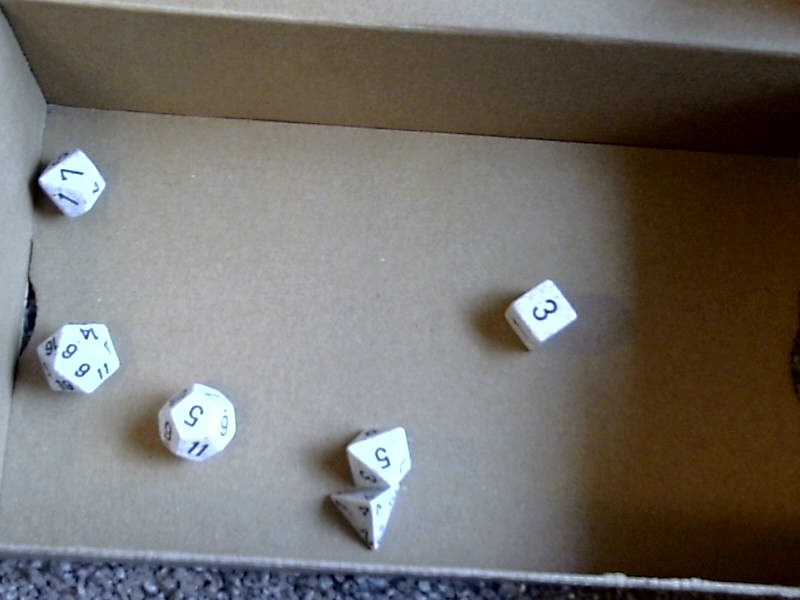d10 7: (34, 143, 110, 226)
d12 5: (154, 381, 240, 468)
d20 6: (33, 310, 121, 396)
d4 4: (320, 488, 405, 556)
d6 3: (501, 274, 577, 355)
d8 5: (345, 422, 424, 491)
